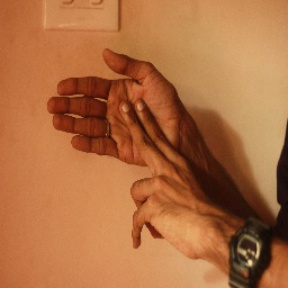N: (43, 47, 206, 235)
